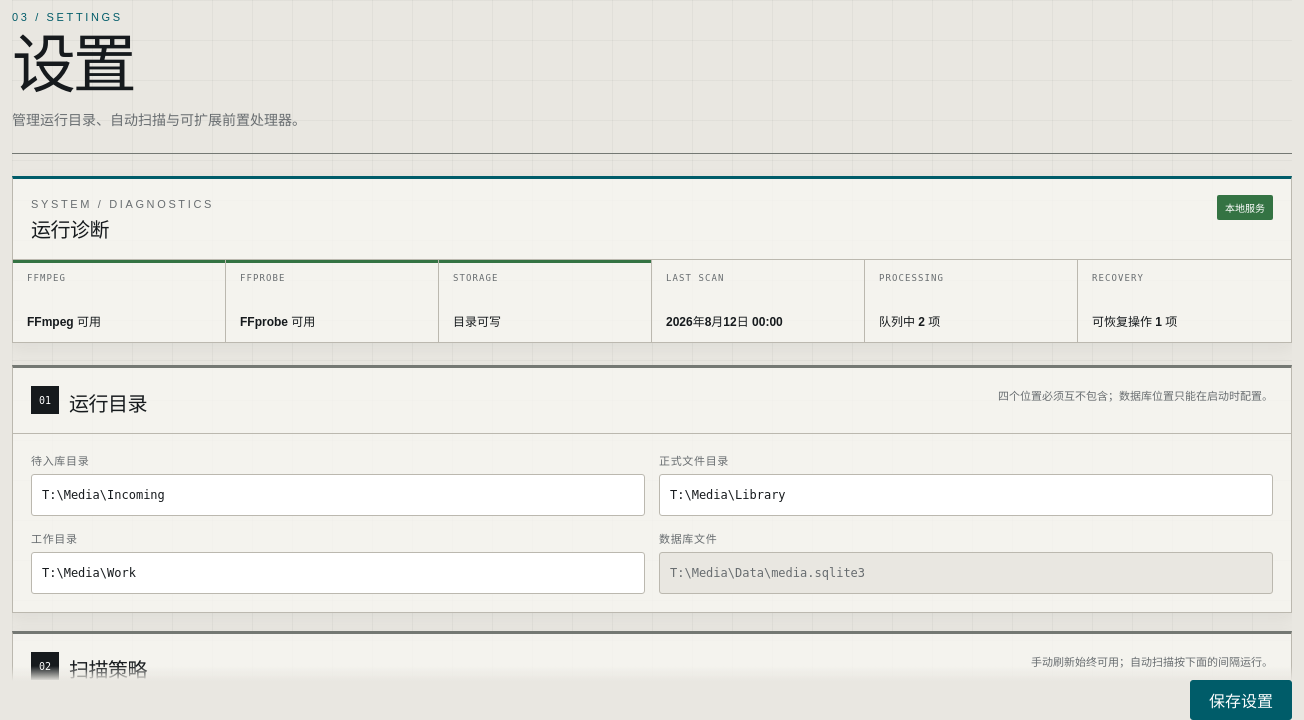
Test: explains why path changes are temporarily blocked
Expected: the field labelled "待入库目录" is shown, 31,474 -> 645,516
Click the button "保存设置": click(1241, 700) 1190,680 -> 1292,719
(page scrolled)
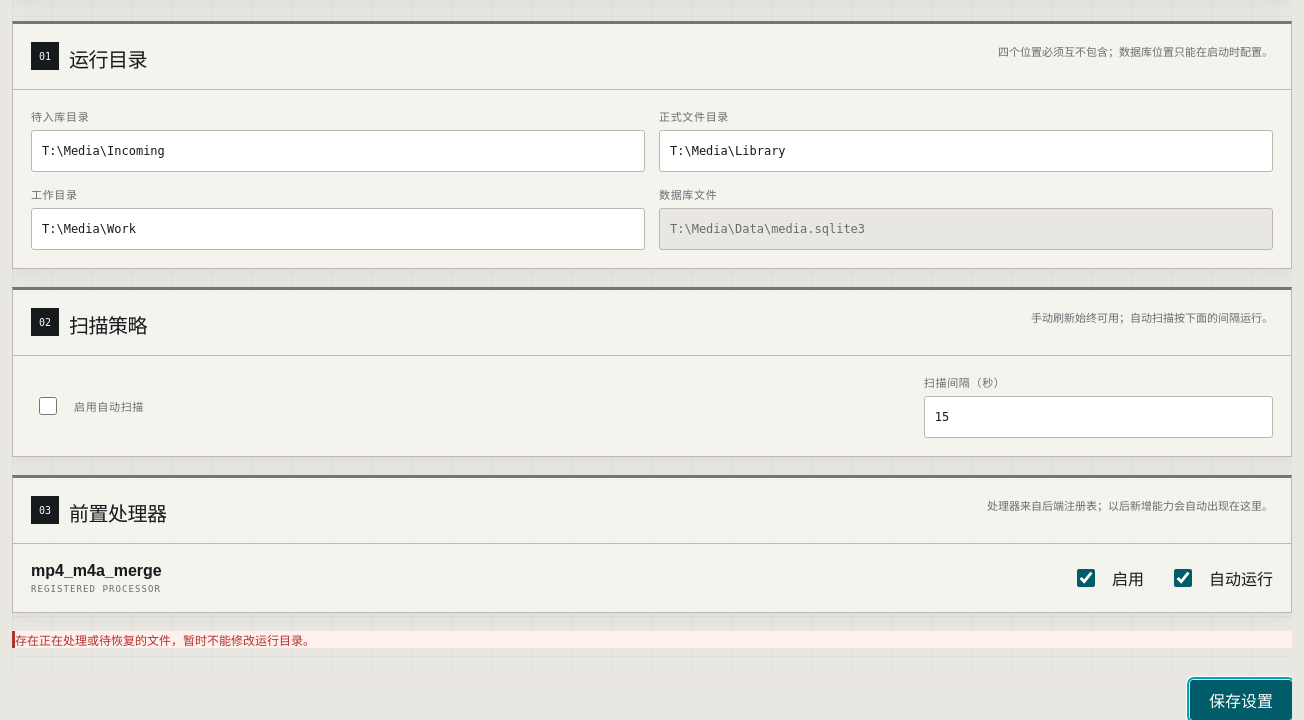
Expected: the text "存在正在处理或待恢复的文件，暂时不能修改运行目录。" is shown, 12,631 -> 1292,648
